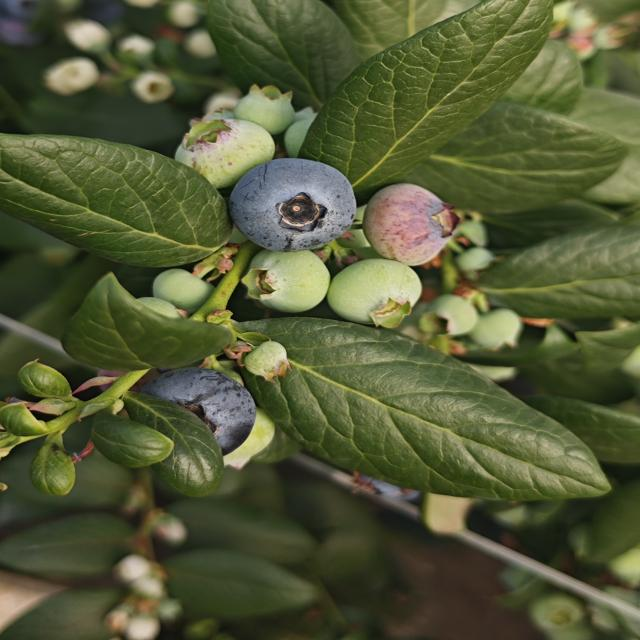ripe: (226, 156, 359, 254), (136, 365, 259, 458)
